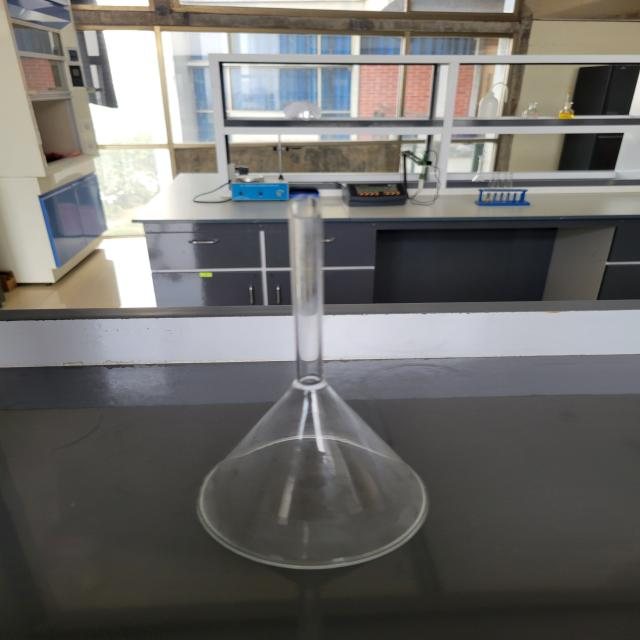Funnel: (170, 165, 465, 601)
